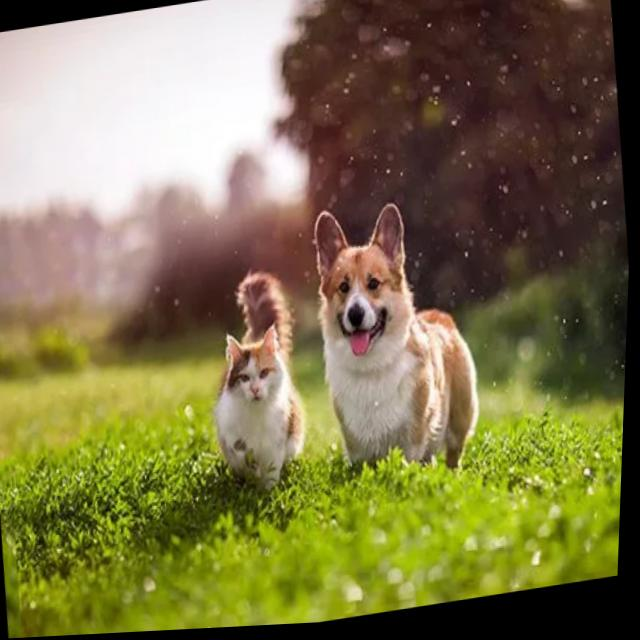Cat: (174, 255, 319, 518)
Dog: (292, 174, 503, 494)
